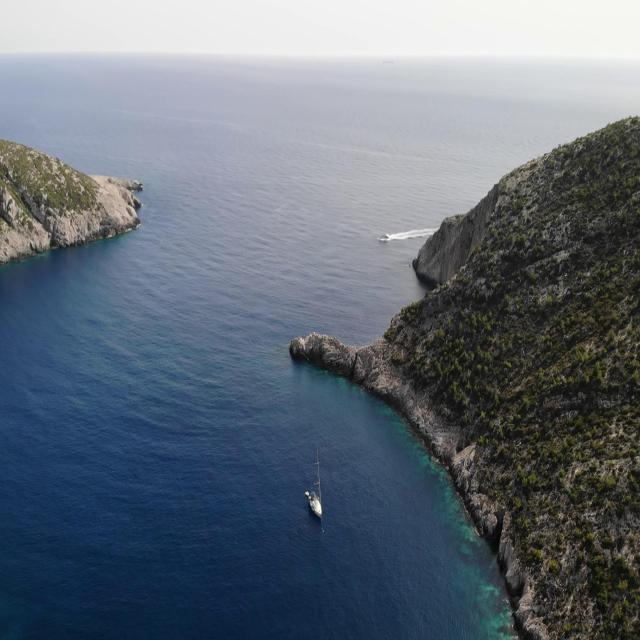sailboat: (305, 446, 322, 520)
